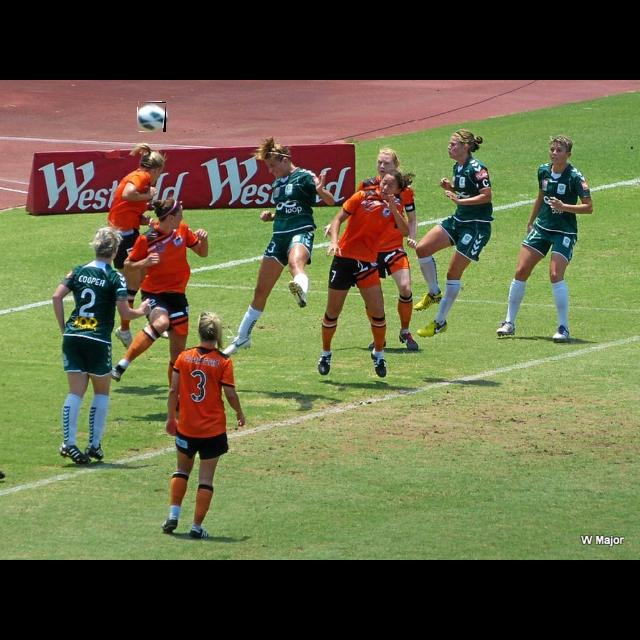Football: (138, 102, 166, 132)
